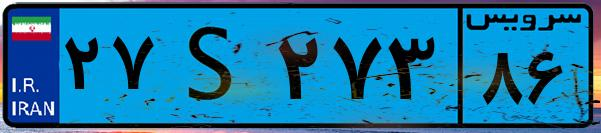2: (270, 28, 330, 110), (57, 26, 110, 100)
3: (385, 28, 445, 110)
6: (525, 38, 570, 115)
7: (330, 28, 385, 110), (110, 28, 158, 98)
8: (475, 38, 525, 113)
S: (158, 12, 270, 120)
